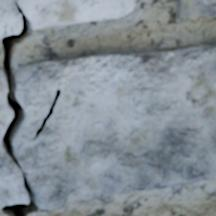brick: (176, 0, 215, 18)
broken_brick: (15, 43, 215, 210), (17, 0, 136, 29), (0, 144, 27, 206), (0, 0, 20, 38), (0, 79, 12, 139)
crack: (0, 0, 40, 215)
